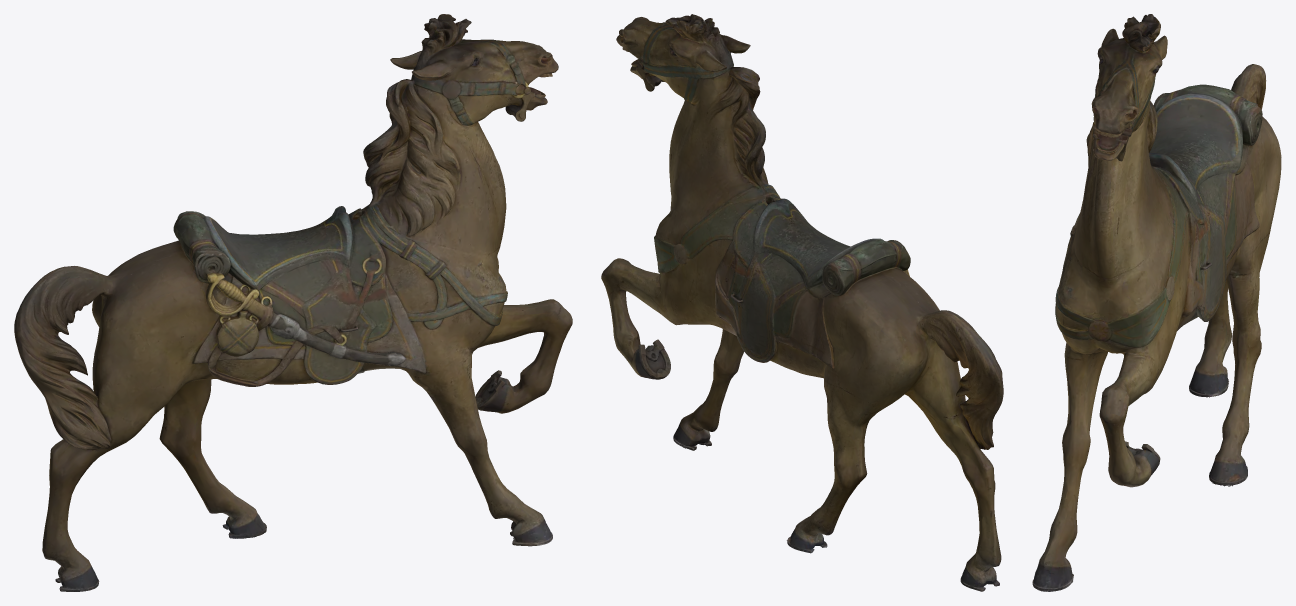
File: preview.glb
3 views of the same model, side by side, from view 1: azimuth 30°, elevation 25°; view 2: azimuth 150°, elevation 25°; view 3: azimuth 270°, elevation 25° (orthographic). The views are drawn at different scales.
Visible parts, largest first — view 1: default_n3d; view 2: default_n3d; view 3: default_n3d.
Boxes of the visible parts, box(x1,y1,x2,y2) form: default_n3d: box(14, 14, 572, 591); default_n3d: box(601, 14, 1003, 591); default_n3d: box(1032, 14, 1281, 591).
Size of the model in its own units: 1.63 by 1.61 by 0.6627.
Materials: 1 (1 with a texture image).
